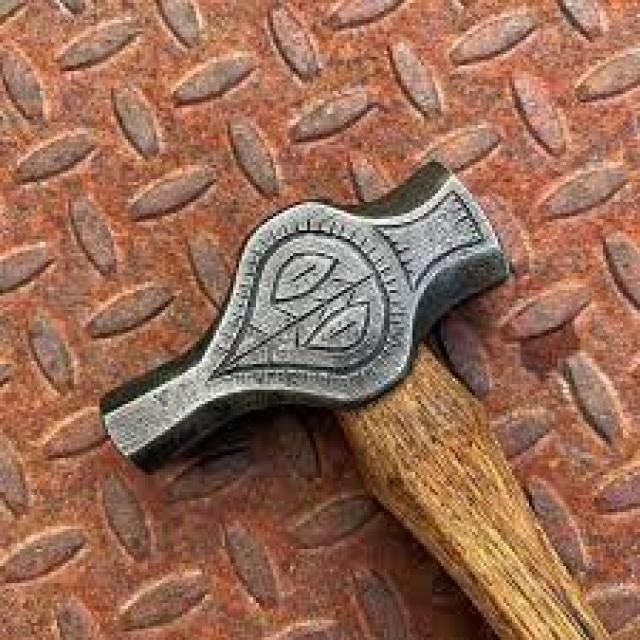hammer: (76, 148, 638, 640)
